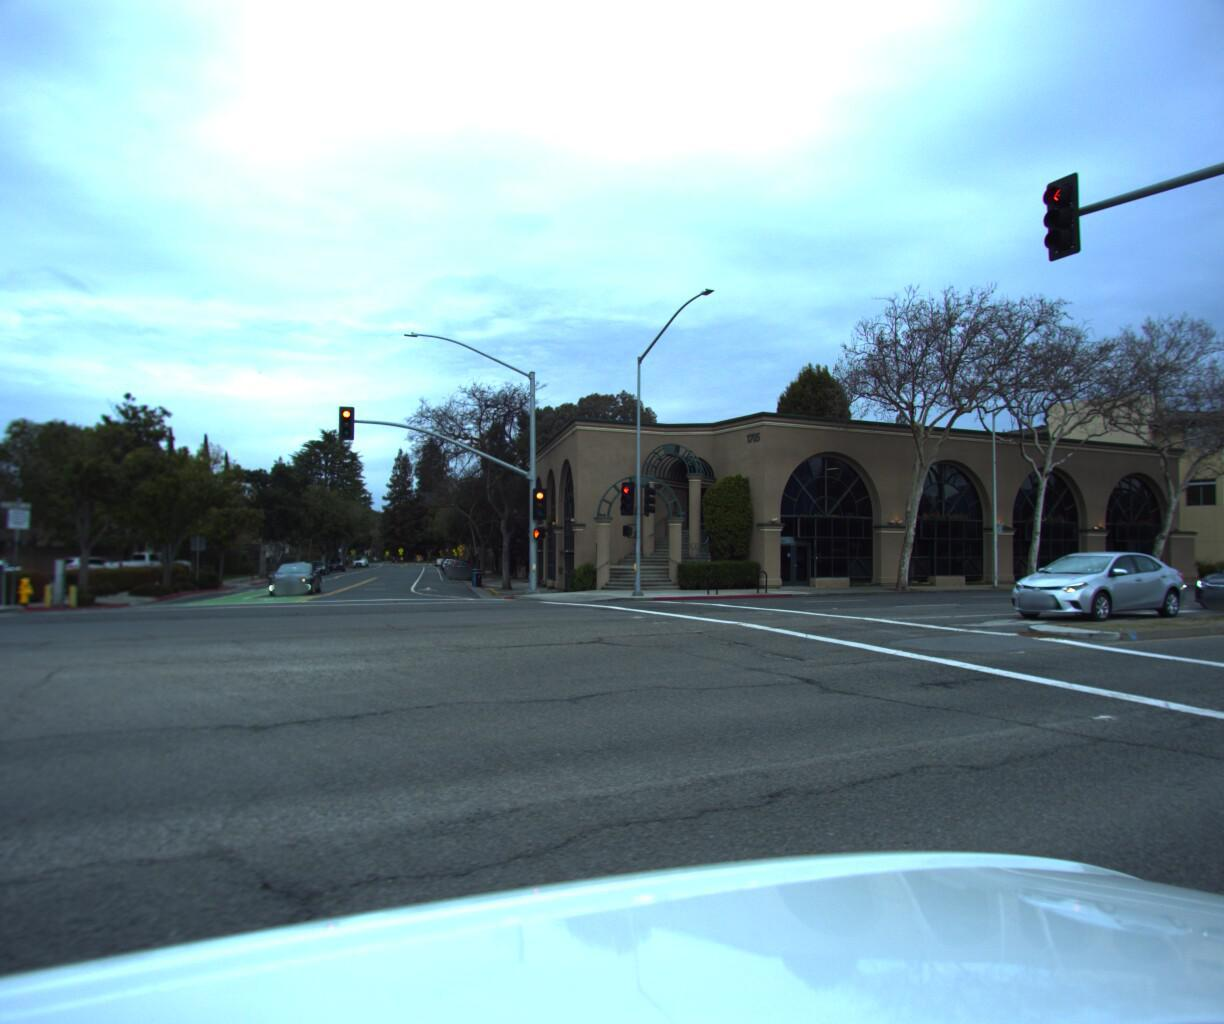car: (994, 545, 1194, 621), (96, 549, 191, 581), (1180, 549, 1224, 609), (48, 553, 135, 583), (263, 558, 325, 599), (0, 557, 28, 592), (443, 556, 473, 578)
